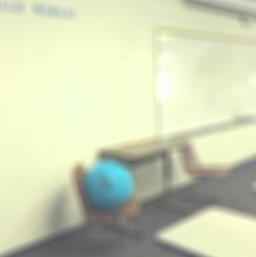algae: (80, 157, 136, 210)
